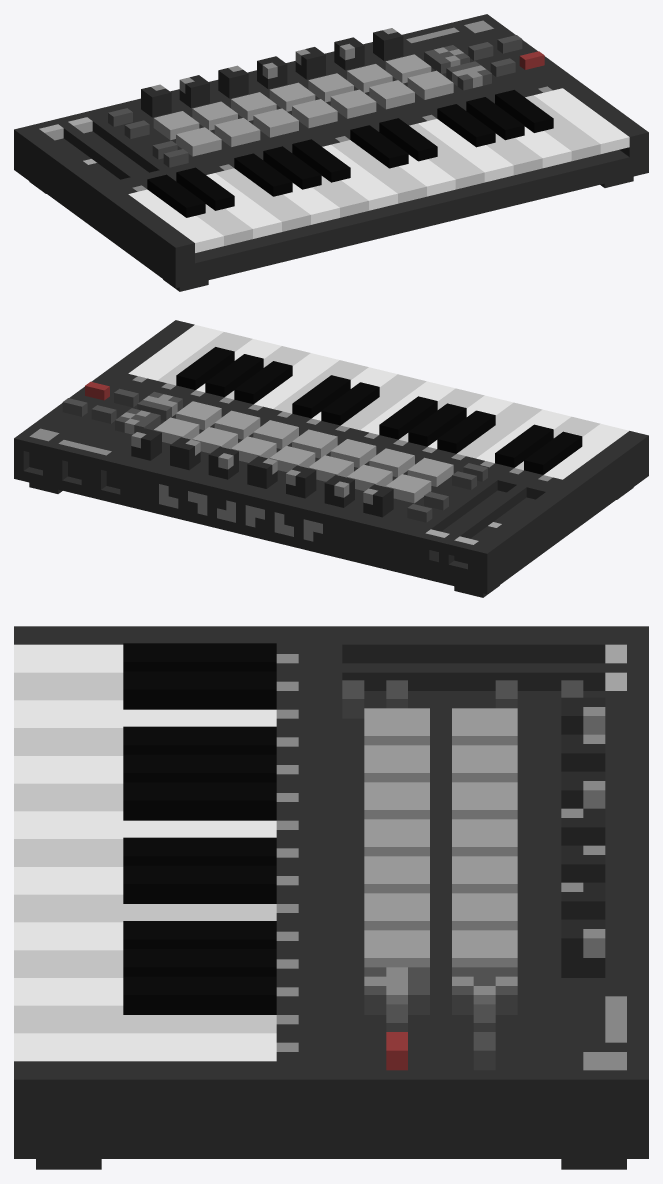
The model's file is synth.glb.
3 views of the same model, one above another, from view 1: azimuth 30°, elevation 25°; view 2: azimuth 150°, elevation 25°; view 3: azimuth 270°, elevation 25° (orthographic). The views are drawn at different scales.
Visible parts, largest first — view 1: Untitled; view 2: Untitled; view 3: Untitled.
Part boxes in pixels (x1,y1,x2,y2): Untitled: (14, 14, 648, 291); Untitled: (14, 320, 648, 597); Untitled: (14, 626, 648, 1169).
Bounding box in the file's own units: 4.9 × 0.7 × 2.9.
Materials: 1 (1 with a texture image).
